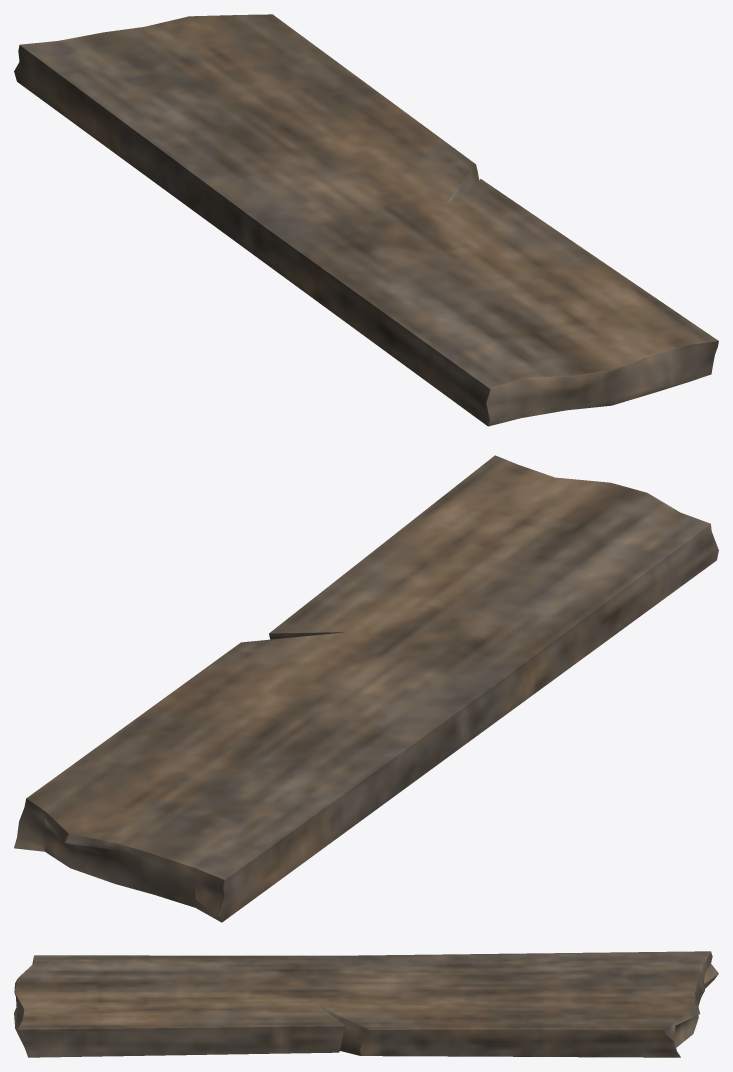
Rendered from Planche3.glb.
3 views of the same model, one above another, from view 1: azimuth 30°, elevation 25°; view 2: azimuth 150°, elevation 25°; view 3: azimuth 270°, elevation 25° (orthographic). The views are drawn at different scales.
Parts seen in each view (by area): view 1: plank_03_Planks_SHD_0; view 2: plank_03_Planks_SHD_0; view 3: plank_03_Planks_SHD_0.
Part boxes in pixels (box(x1,y1,x2,y2)): plank_03_Planks_SHD_0: box(14, 14, 718, 426); plank_03_Planks_SHD_0: box(14, 455, 718, 922); plank_03_Planks_SHD_0: box(14, 951, 718, 1057).
Bounding box in the file's own units: 1.7 × 0.3245 × 6.48.
Materials: 1 (1 with a texture image).
